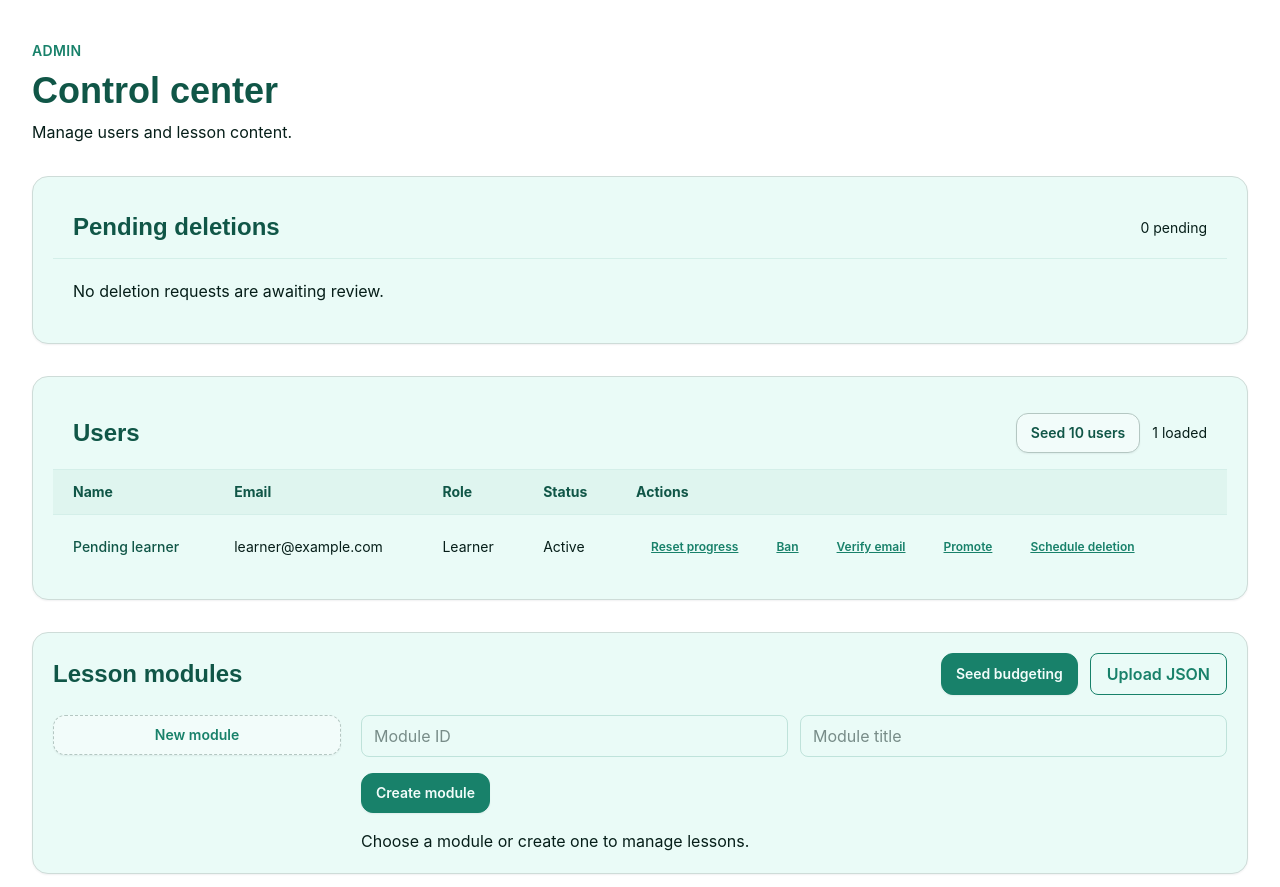
AdminDashboardPage › updates a ban locally without reloading dashboard data
The width and height of the screenshot is (1280, 887).
Step 1. Click the button "Ban" → (788, 547), box [761,527,814,567]
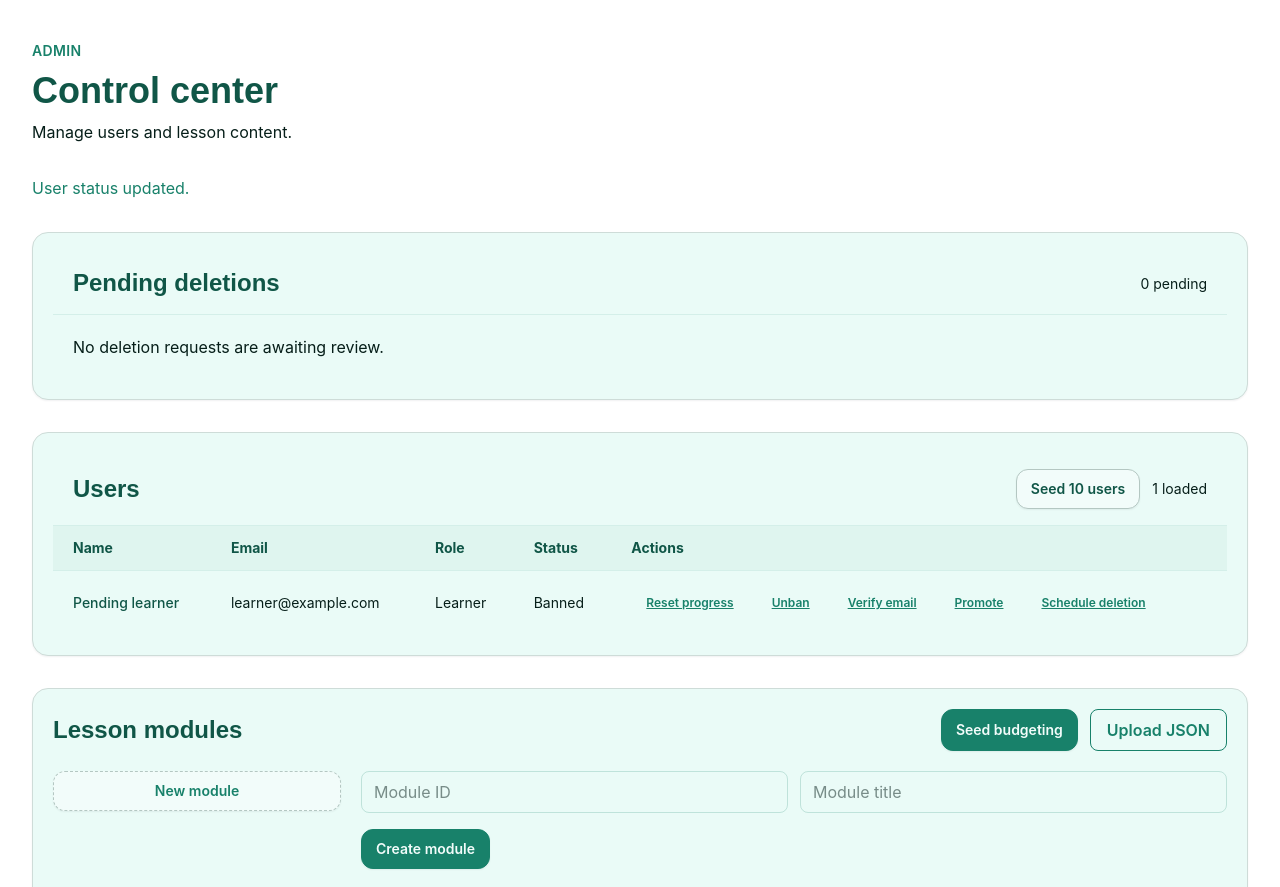
Expected: the button "Unban" is shown, [757,583,825,623]
